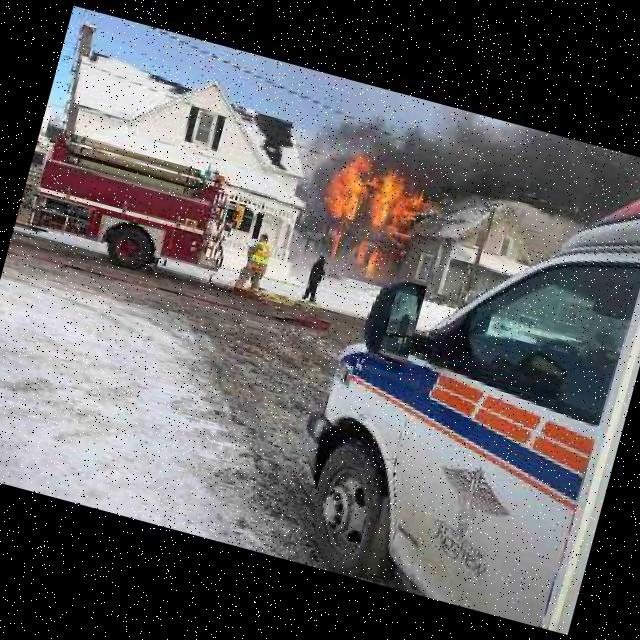fire: (262, 82, 442, 290)
